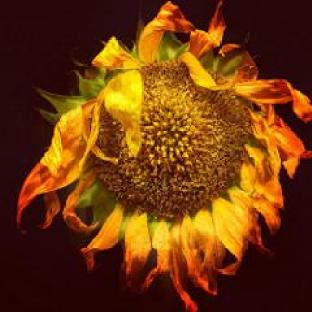sunflower: (16, 0, 312, 312)
